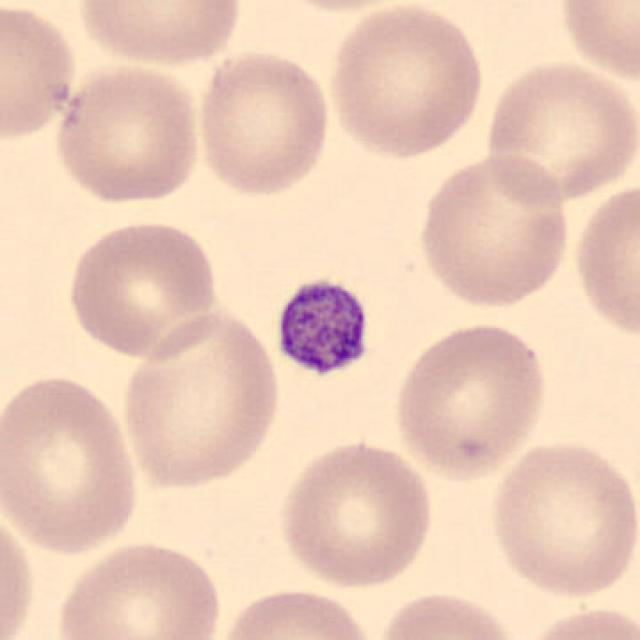Platelets: (270, 273, 375, 381)
RBC: (116, 306, 286, 494), (0, 368, 146, 559), (389, 317, 553, 483), (325, 2, 487, 162), (484, 435, 638, 603), (274, 436, 439, 592), (412, 152, 574, 310), (480, 56, 638, 208), (62, 215, 222, 362), (50, 60, 204, 208), (192, 44, 334, 199), (50, 536, 226, 640), (73, 0, 247, 71), (0, 0, 82, 146), (569, 176, 638, 346), (211, 583, 380, 640), (374, 587, 526, 640), (552, 0, 638, 86), (0, 499, 39, 640), (516, 603, 638, 640), (254, 0, 430, 14)
